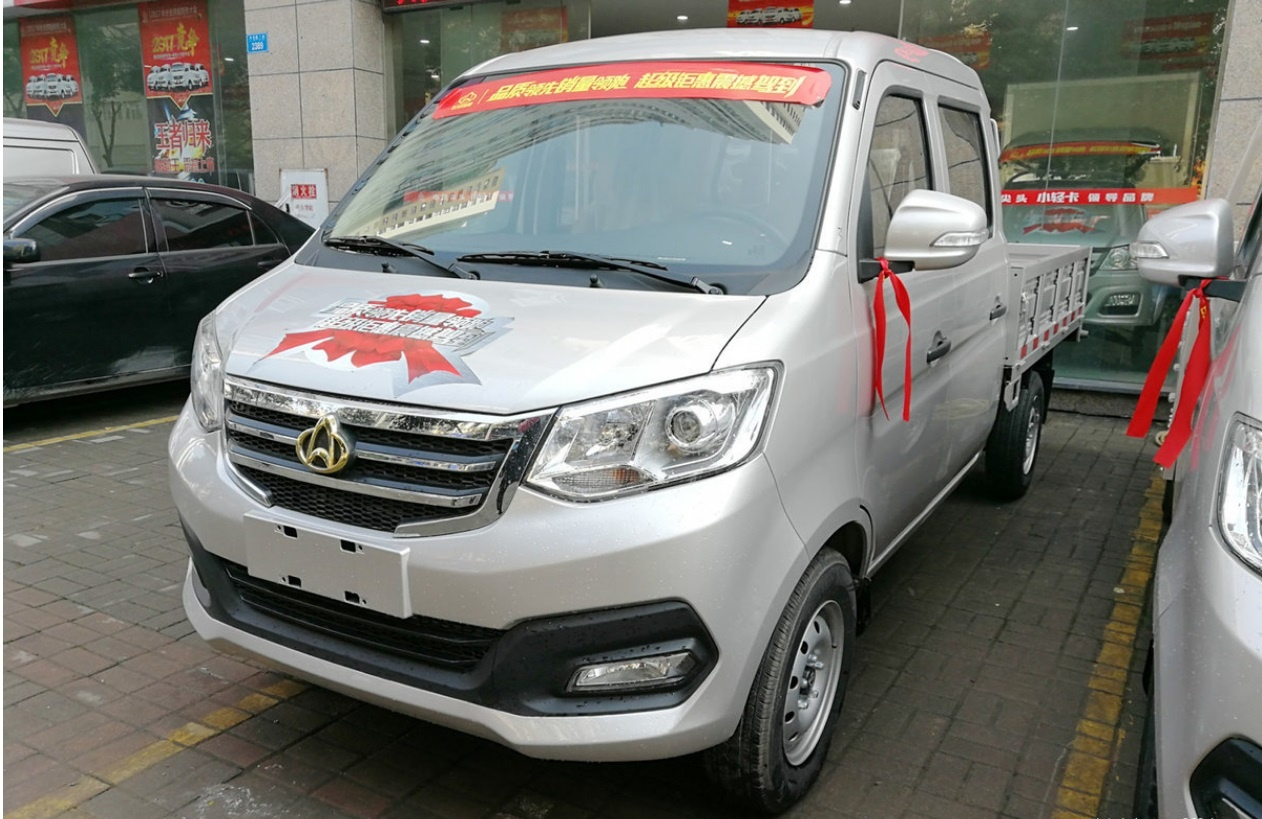truck: (168, 40, 1097, 780)
